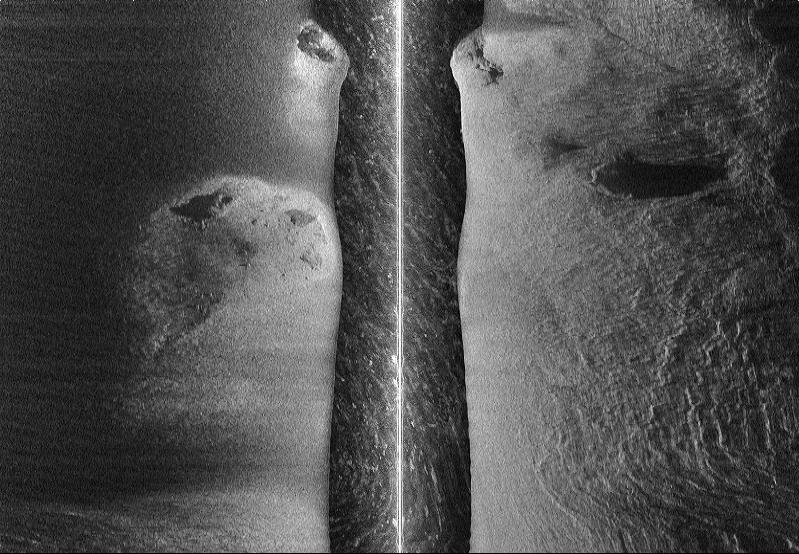ship: (201, 175, 252, 224)
